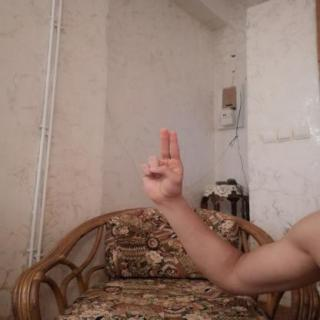TA: (131, 120, 189, 208)
